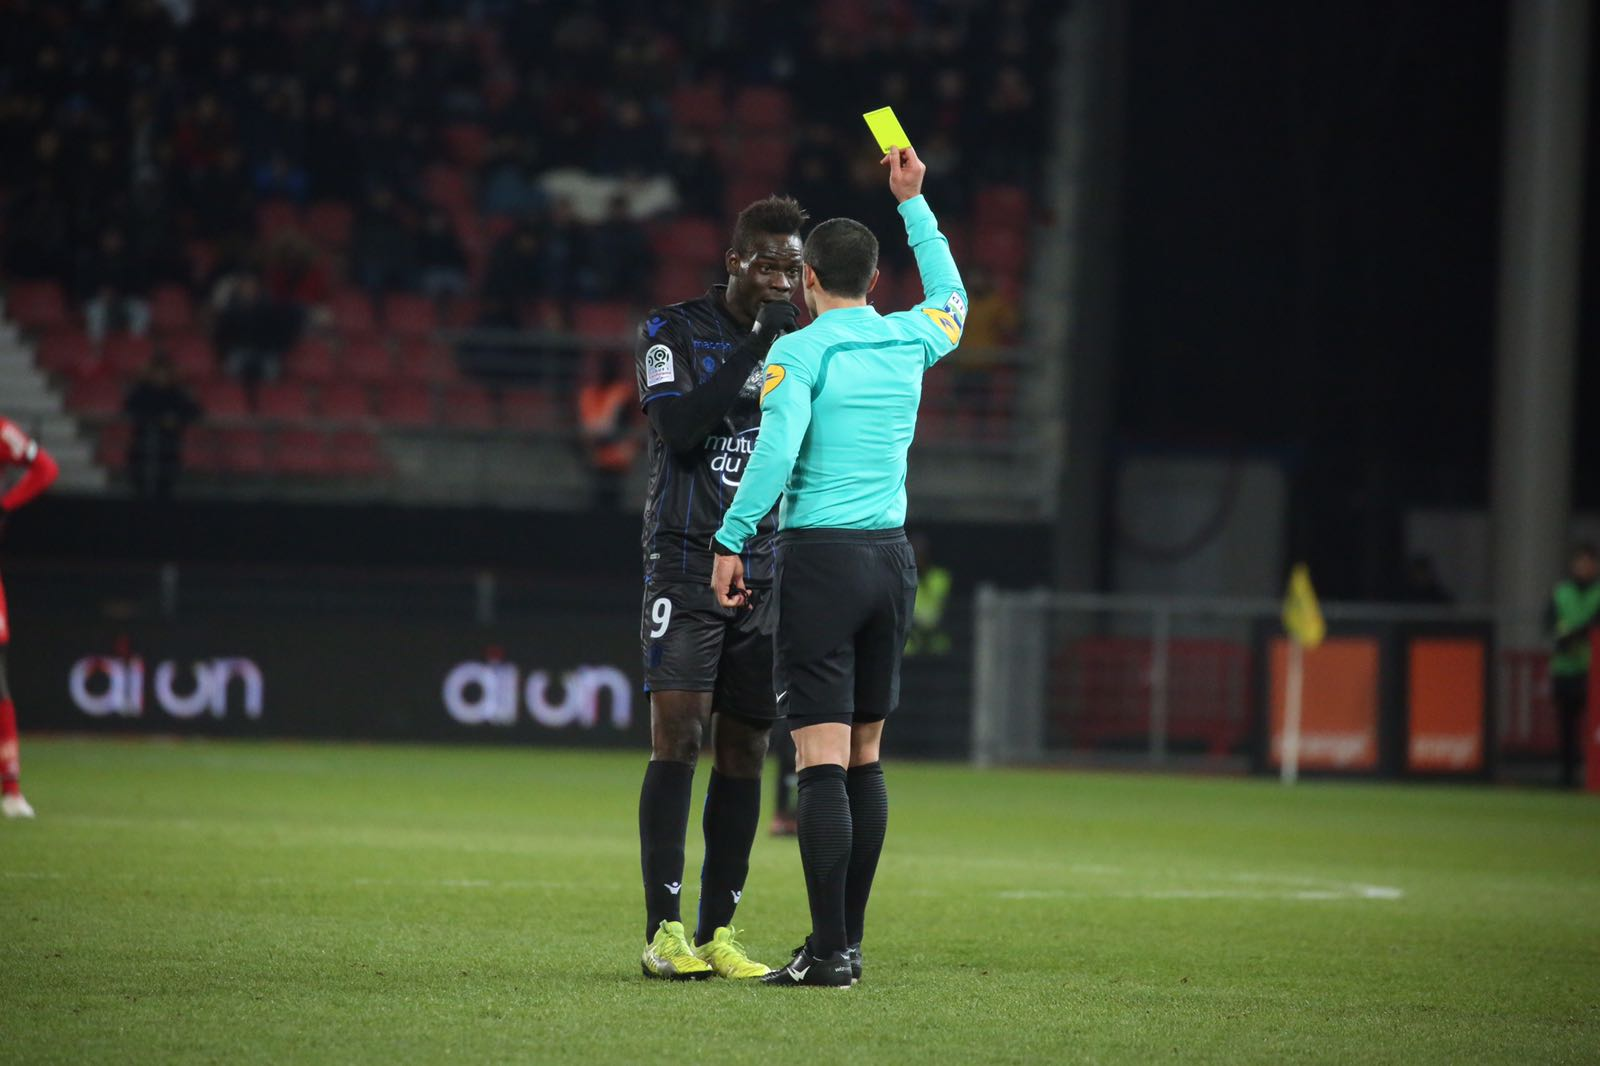yellow_card: (842, 84, 947, 203)
